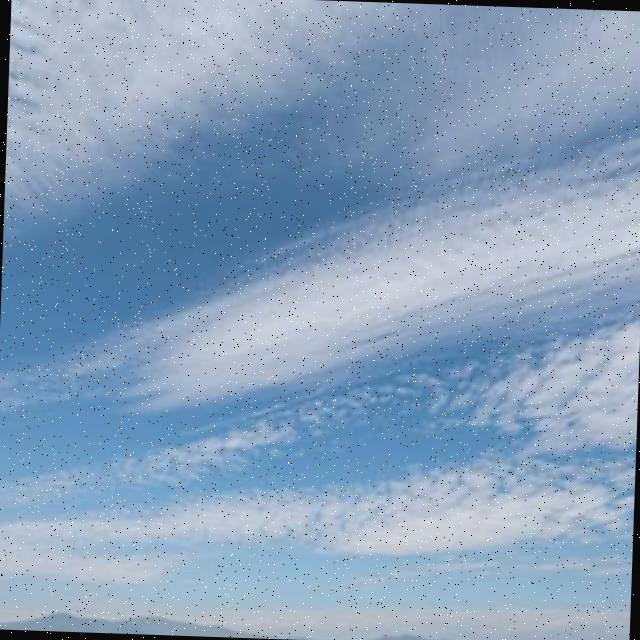Ac: (7, 80, 640, 455)
